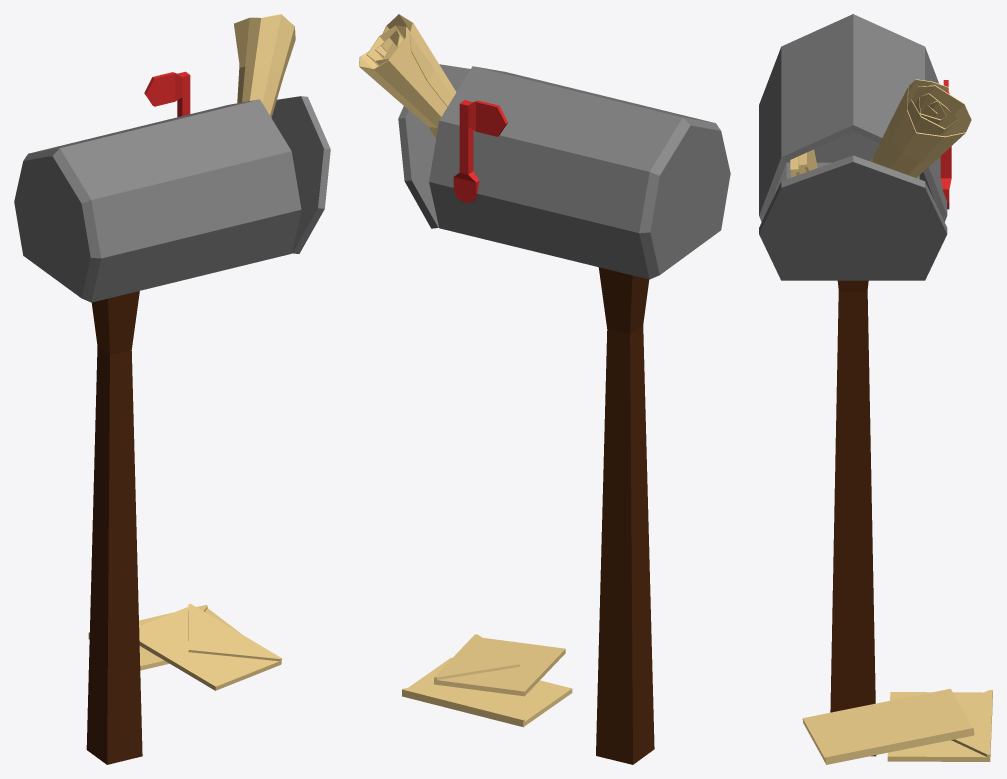
File: Briefkasten1mBriefen.fbx
3 renders of one model, left to right at view 1: azimuth 30°, elevation 25°; view 2: azimuth 150°, elevation 25°; view 3: azimuth 270°, elevation 25°, orthographic. The views are drawn at different scales.
Parts seen in each view (by area): view 1: Cube.001, Cube.025, Plane, Cube.004, Cube.024; view 2: Cube.001, Plane, Cube.025, Cube.024, Cube.004; view 3: Cube.001, Cube.025, Plane, Cube.024, Cube.004.
Part boxes in pixels (bbox=[...]): Cube.001: bbox=[14, 96, 330, 764]; Cube.025: bbox=[139, 603, 281, 690]; Plane: bbox=[234, 14, 295, 117]; Cube.004: bbox=[144, 71, 190, 117]; Cube.024: bbox=[88, 604, 240, 670]; Cube.001: bbox=[398, 64, 730, 764]; Plane: bbox=[359, 14, 456, 138]; Cube.025: bbox=[434, 634, 565, 696]; Cube.024: bbox=[402, 658, 572, 727]; Cube.004: bbox=[453, 100, 507, 202]; Cube.001: bbox=[759, 14, 947, 756]; Cube.025: bbox=[802, 688, 974, 764]; Plane: bbox=[869, 79, 971, 177]; Cube.024: bbox=[887, 690, 992, 761]; Cube.004: bbox=[940, 80, 951, 209].
Size of the model in its own units: 156 by 366 by 101.
